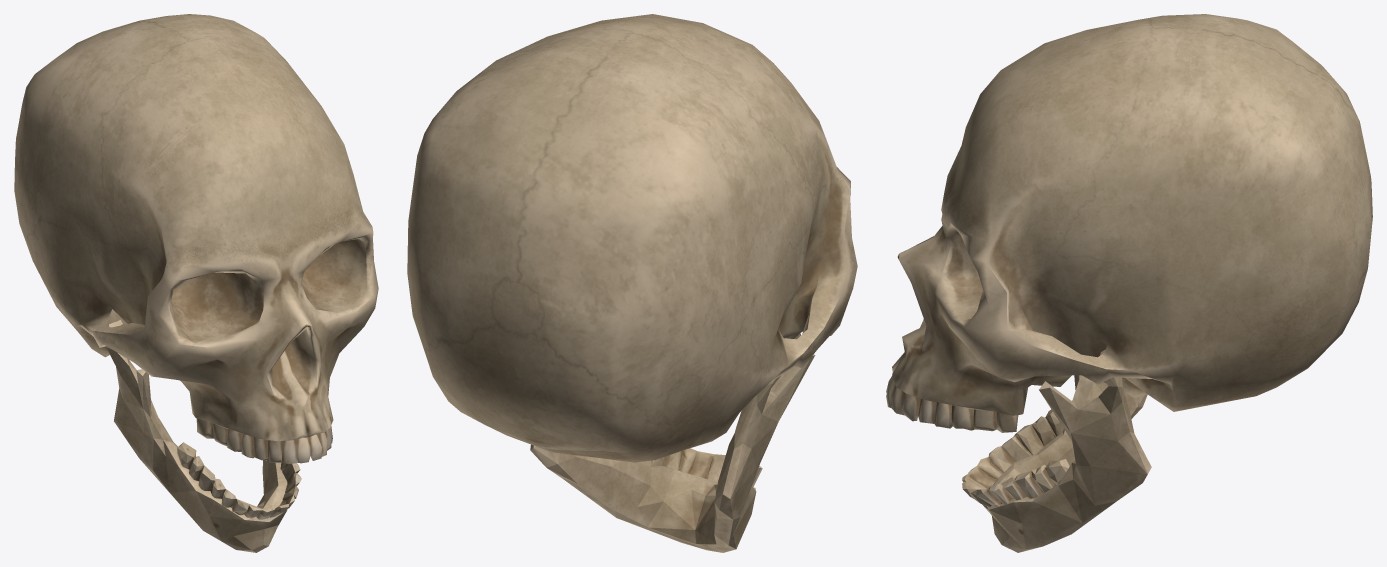
The model's file is Crane_Animation.fbx.
3 renders of one model, left to right at view 1: azimuth 30°, elevation 25°; view 2: azimuth 150°, elevation 25°; view 3: azimuth 270°, elevation 25°, orthographic. The views are drawn at different scales.
Parts seen in each view (by area): view 1: Crane, Machoire; view 2: Crane, Machoire; view 3: Crane, Machoire.
Boxes of the visible parts, box(x1,y1,x2,y2) form: Crane: box(14, 14, 378, 464); Machoire: box(106, 320, 301, 552); Crane: box(407, 14, 857, 462); Machoire: box(530, 354, 815, 552); Crane: box(886, 14, 1372, 432); Machoire: box(962, 349, 1151, 552).
Bounding box in the file's own units: 20.02 × 34.86 × 29.6.
